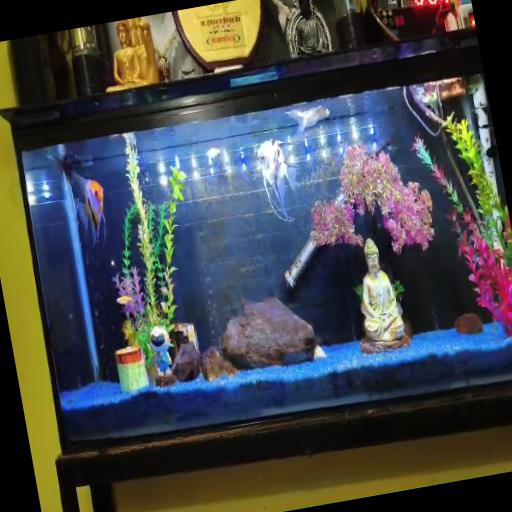Fish: (61, 161, 106, 250), (257, 139, 298, 222), (287, 105, 330, 136), (206, 148, 221, 160), (117, 295, 132, 305)
